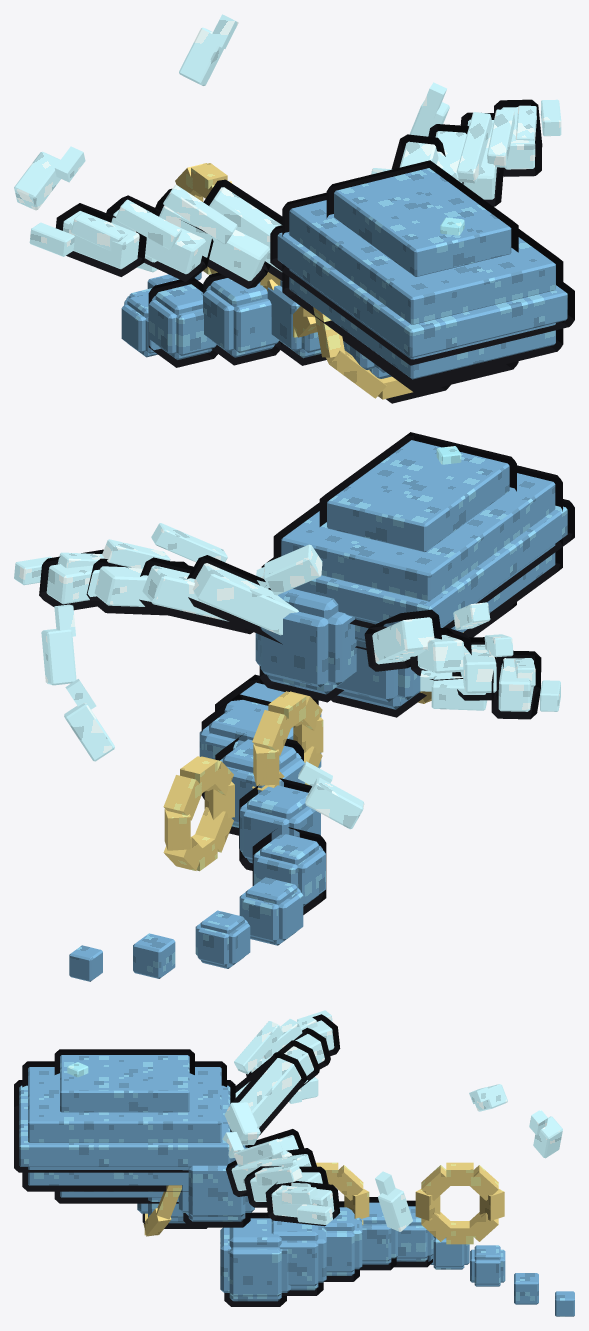
The model's file is lake_serpent_09.glb.
The picture shows the model from 3 angles, top to bottom: view 1: azimuth 30°, elevation 25°; view 2: azimuth 150°, elevation 25°; view 3: azimuth 270°, elevation 25°; orthographic projection. The views are drawn at different scales.
Visible parts, largest first — view 1: model; view 2: model; view 3: model.
Boxes of the visible parts, x1=… form: model: x1=14, y1=14, x2=574, y2=403; model: x1=14, y1=432, x2=574, y2=981; model: x1=14, y1=1010, x2=574, y2=1316.
Size of the model in its own units: 1.79 by 0.9625 by 2.1.
7 materials, 6 textured.
